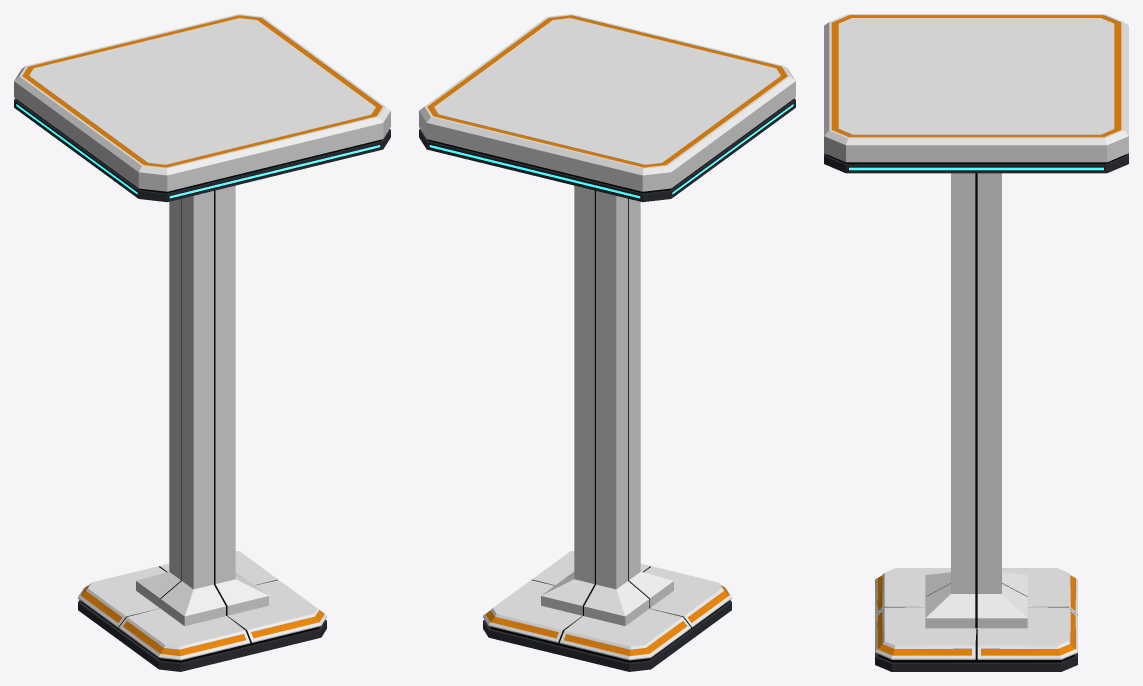
Rendered from mess_table.glb.
3 views of the same model, side by side, from view 1: azimuth 30°, elevation 25°; view 2: azimuth 150°, elevation 25°; view 3: azimuth 270°, elevation 25° (orthographic). The views are drawn at different scales.
Parts seen in each view (by area): view 1: SM_BarTable; view 2: SM_BarTable; view 3: SM_BarTable.
Boxes of the visible parts, left/top/right/bottom form: SM_BarTable: left=14, top=14, right=390, bottom=671; SM_BarTable: left=419, top=14, right=795, bottom=671; SM_BarTable: left=824, top=14, right=1128, bottom=671.
Bounding box in the file's own units: 0.6 × 1.2 × 0.6.
